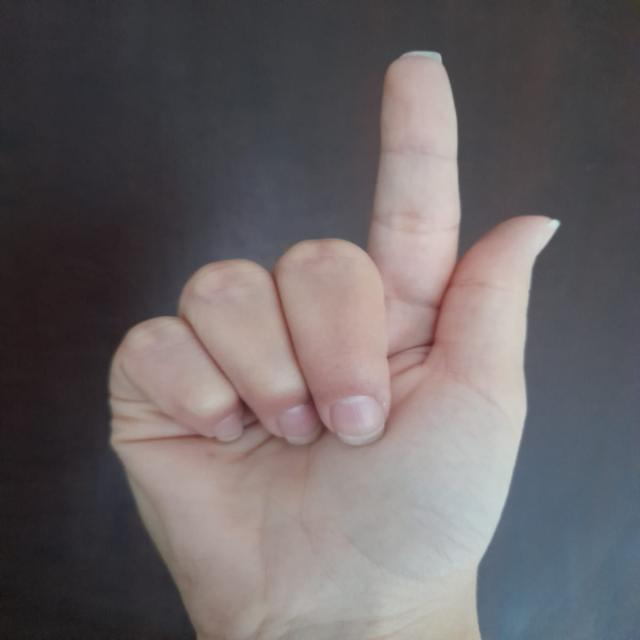G: (64, 46, 603, 628)
